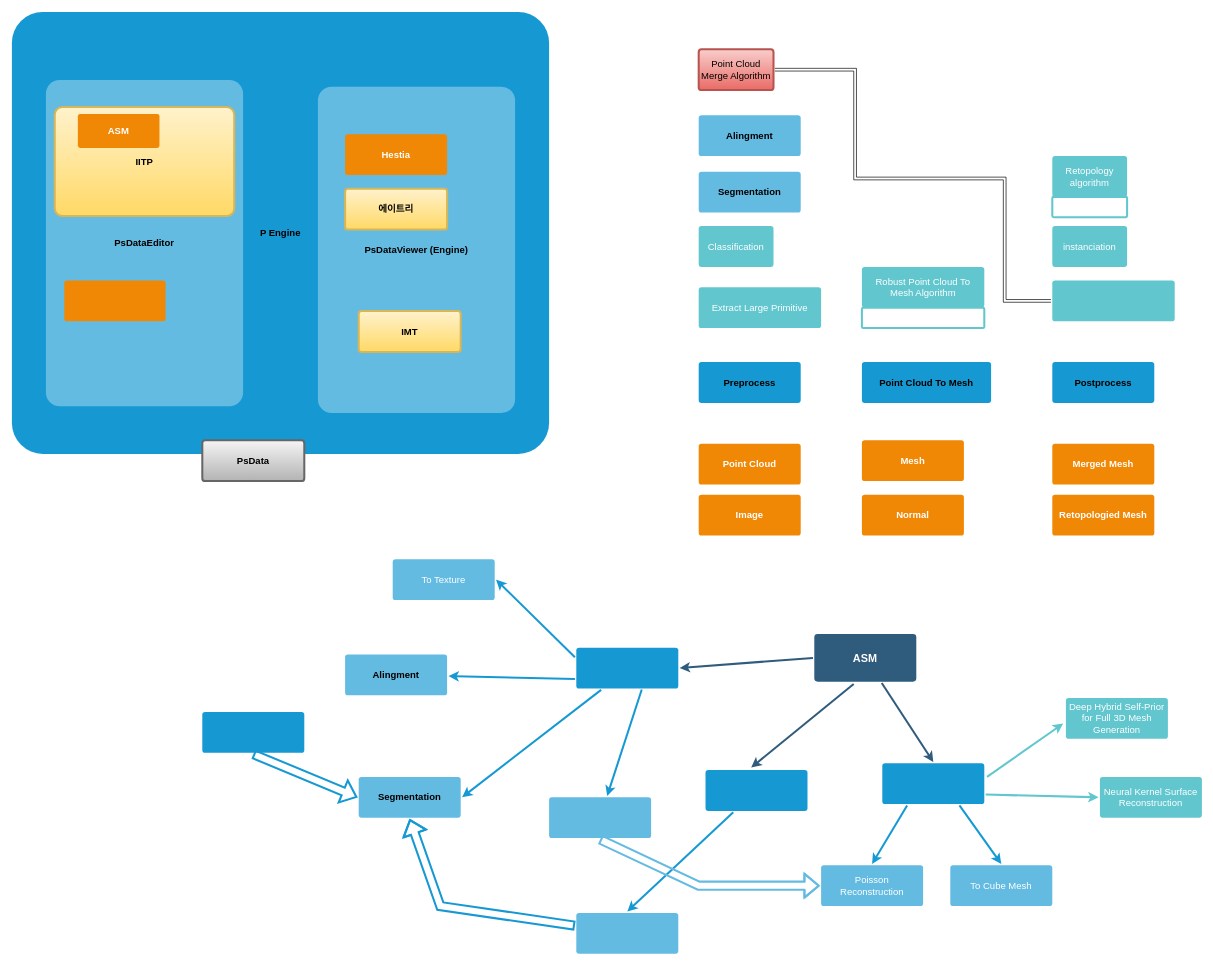
This 1213x965 diagram has some shape labels left out. The centre of each missing label's shape, as x and y in pixels:
From Image: point 253,732
Mesh Merge Algorithm: point 1113,300
noise / lack: point 923,317
PCA Normal Estimation: point 600,817
poisson: point 1089,207
PsswEditor: point 114,300
To Geometry: point 627,667
To Histogram: point 627,933
To Mesh: point 933,783
To Statistic: point 756,790
